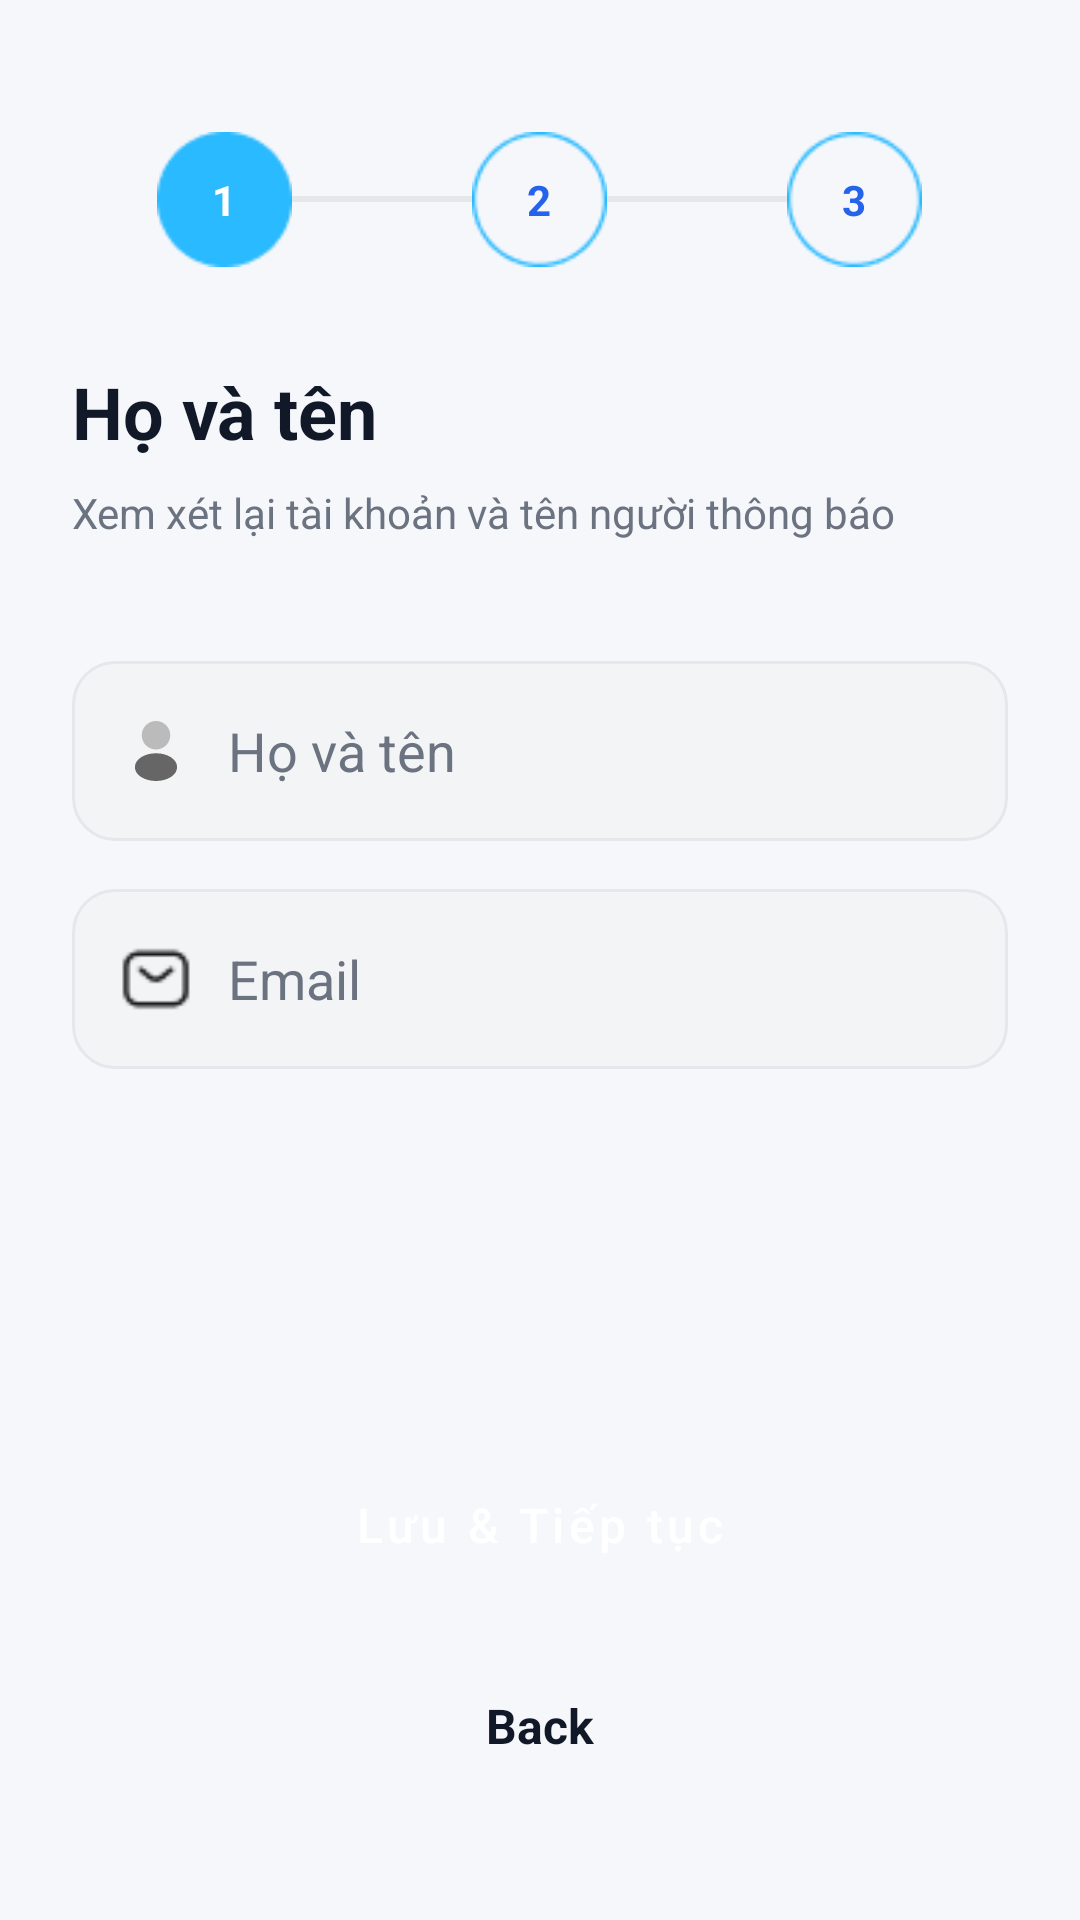

Icons on this 1080 × 1920 Android screen, each with the point to tap as point (x, y):
user: point (156, 751)
